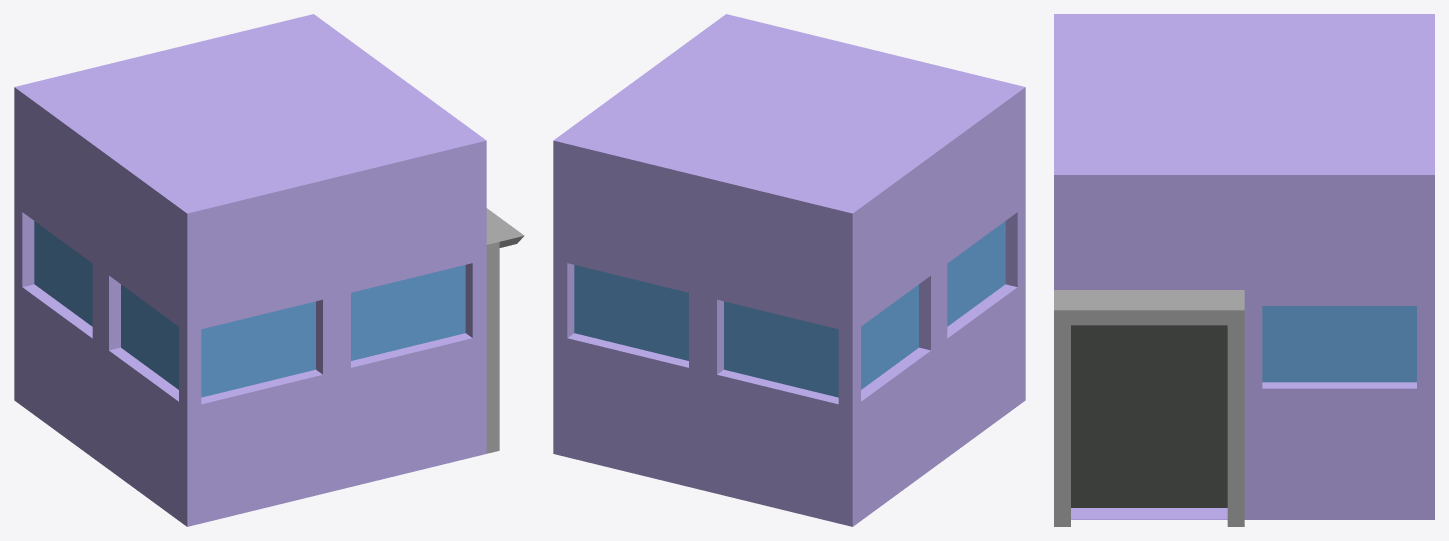
The model's file is building_1x1_2_g_pink.glb.
3 views of the same model, side by side, from view 1: azimuth 30°, elevation 25°; view 2: azimuth 150°, elevation 25°; view 3: azimuth 270°, elevation 25° (orthographic). The views are drawn at different scales.
Parts seen in each view (by area): view 1: Cube; view 2: Cube; view 3: Cube.
Boxes of the visible parts, x1,y1,x2,y2 form: Cube: [14, 14, 524, 526]; Cube: [553, 14, 1025, 526]; Cube: [1054, 14, 1434, 526].
Size of the model in its own units: 1.8 by 1.6 by 1.6.
